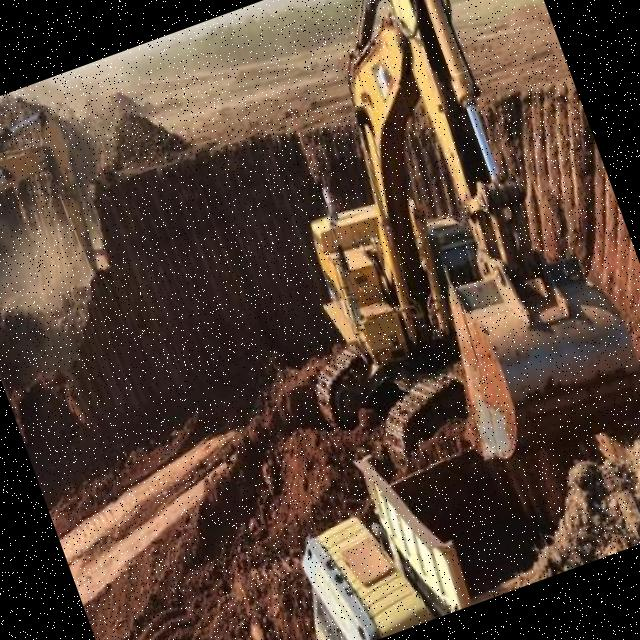Dump Truck: (254, 365, 640, 640)
Excavator: (182, 0, 640, 511), (0, 104, 117, 332)
